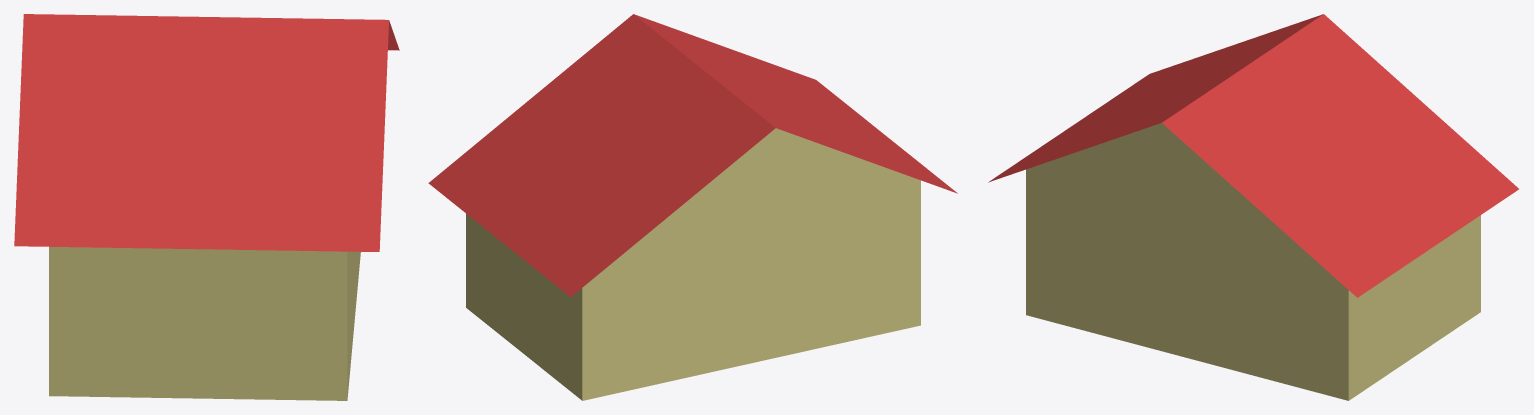
The picture shows the model from 3 angles, left to right: view 1: azimuth 30°, elevation 25°; view 2: azimuth 150°, elevation 25°; view 3: azimuth 270°, elevation 25°; orthographic projection. The views are drawn at different scales.
Bounding box in the file's own units: 26.36 × 28.6 × 14.38.
